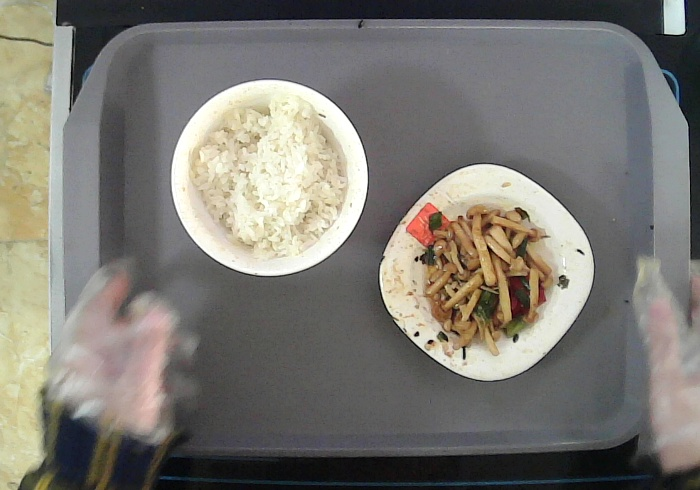SHKJ-Bai_Se_Si_Fang_Cai_Die: (375, 161, 599, 384)
SHKJ-Fan_Wan: (168, 77, 373, 280)
